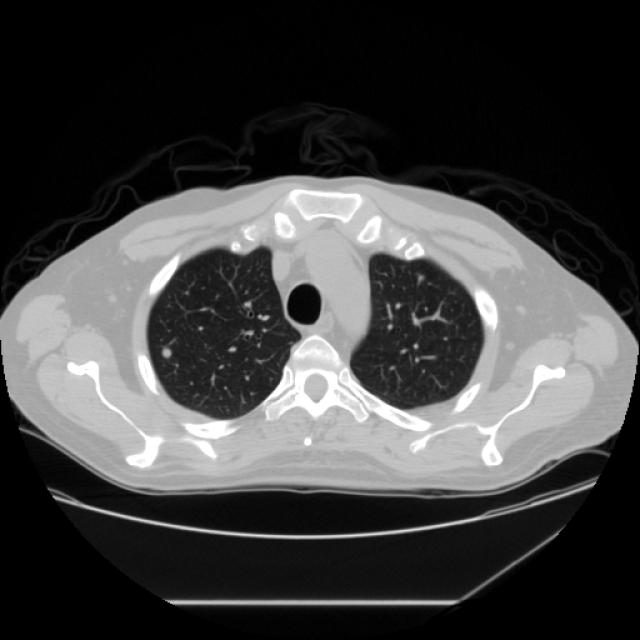nodule: (151, 337, 179, 365)
